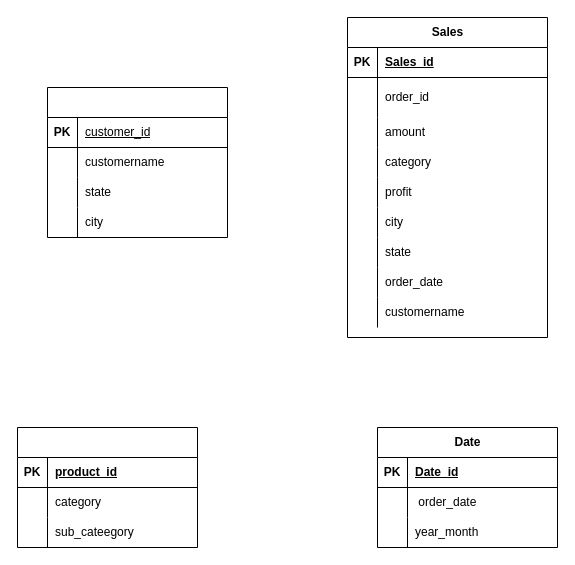
Image size: 575x565. Some labels were removed from this diagram. The box of each missing label's shape, as (x1, y1, x2, y2) in pixels:
Customers: (46, 86, 228, 238)
Products: (16, 426, 198, 548)
